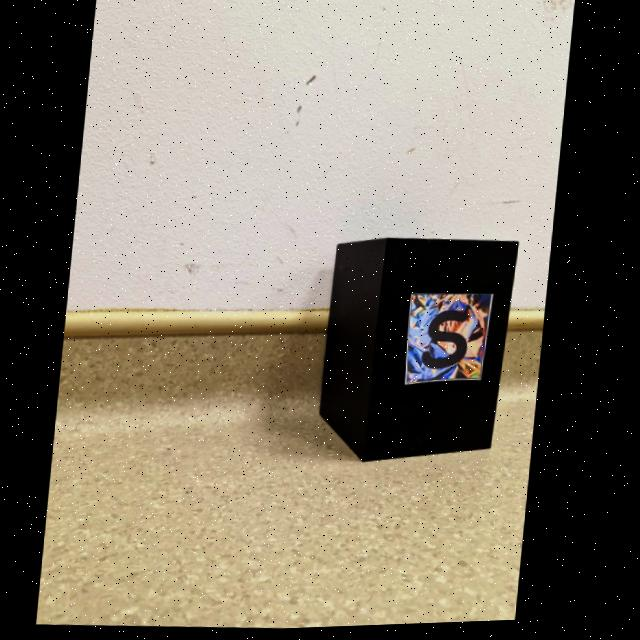S: (426, 314, 470, 372)
